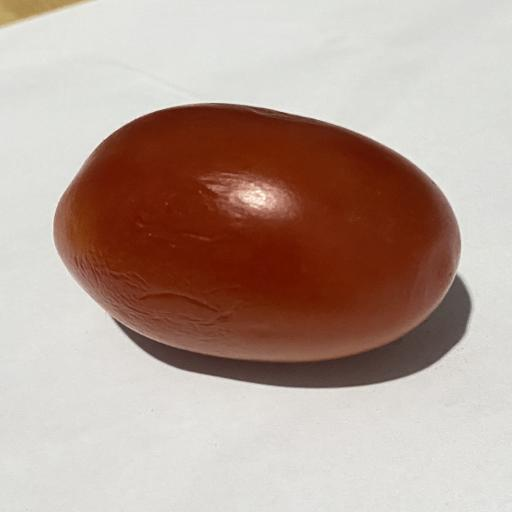spoiled: (54, 104, 460, 362)
